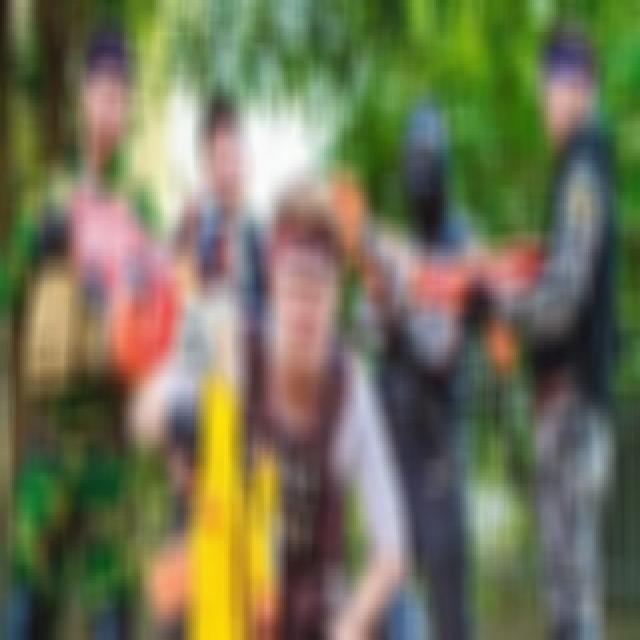Nerf gun: (154, 277, 282, 633), (47, 154, 229, 372), (324, 167, 456, 352), (404, 212, 552, 364), (179, 189, 265, 295)
